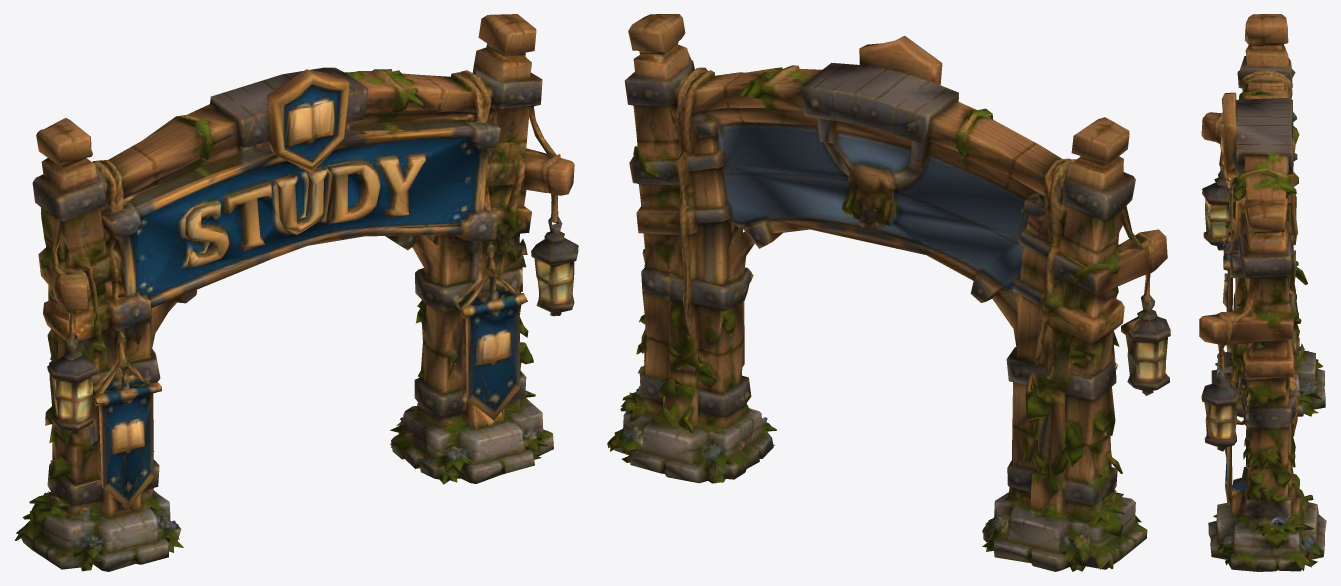
Rendered from arch-study.glb.
The picture shows the model from 3 angles, left to right: view 1: azimuth 30°, elevation 25°; view 2: azimuth 150°, elevation 25°; view 3: azimuth 270°, elevation 25°; orthographic projection. The views are drawn at different scales.
Parts seen in each view (by area): view 1: Mesh1.0; view 2: Mesh1.0; view 3: Mesh1.0.
Boxes of the visible parts, x1,y1,x2,y2 form: Mesh1.0: (14,14,578,571); Mesh1.0: (607,14,1170,571); Mesh1.0: (1199,14,1326,571).
Size of the model in its own units: 1.9 by 1.53 by 0.4682.
Materials: 1 (1 with a texture image).
